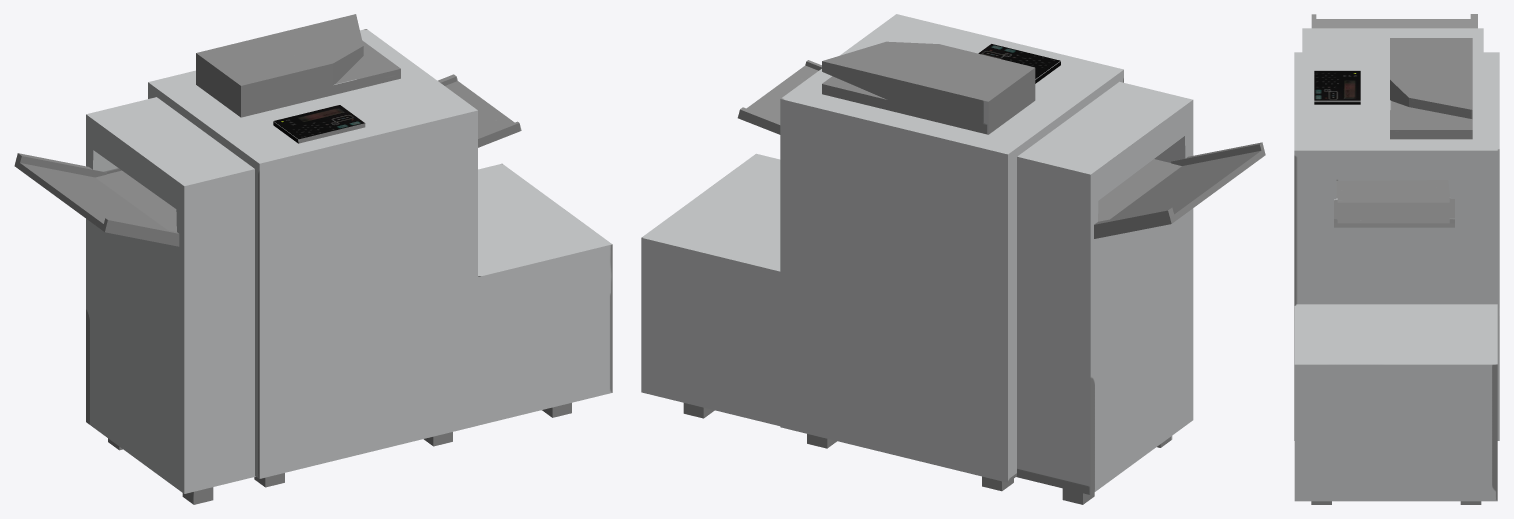
Rendered from drukarka.glb.
3 renders of one model, left to right at view 1: azimuth 30°, elevation 25°; view 2: azimuth 150°, elevation 25°; view 3: azimuth 270°, elevation 25°, orthographic. The views are drawn at different scales.
Visible parts, largest first — view 1: Cube.001; view 2: Cube.001; view 3: Cube.001.
Boxes of the visible parts, x1,y1,x2,y2 form: Cube.001: [14, 14, 612, 504]; Cube.001: [641, 14, 1265, 504]; Cube.001: [1294, 14, 1499, 504].
Bounding box in the file's own units: 4.56 × 3.2 × 1.77.
Materials: 1 (1 with a texture image).
